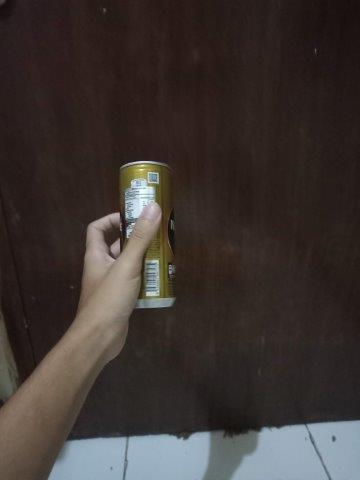kaleng: (119, 160, 176, 309)
